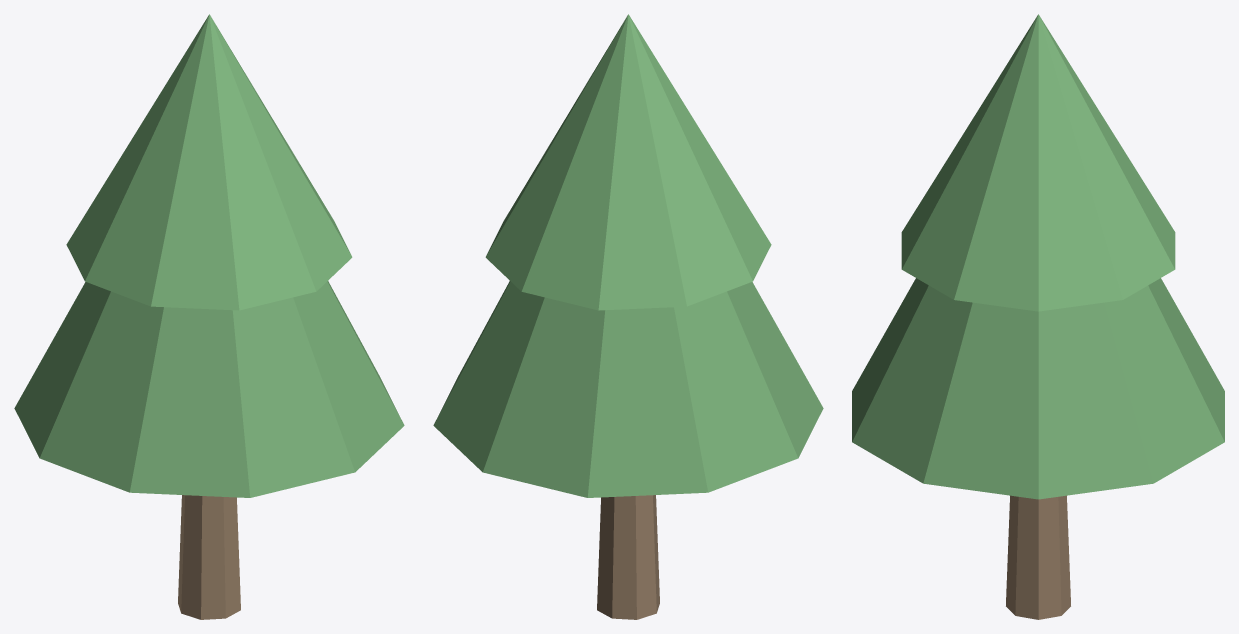
The model's file is tree.glb.
3 views of the same model, side by side, from view 1: azimuth 30°, elevation 25°; view 2: azimuth 150°, elevation 25°; view 3: azimuth 270°, elevation 25° (orthographic).
Parts seen in each view (by area): view 1: prop; view 2: prop; view 3: prop.
Part boxes in pixels (x1,y1,x2,y2): prop: (14, 14, 404, 619); prop: (433, 14, 823, 619); prop: (852, 14, 1224, 619).
Bounding box in the file's own units: 3 × 5 × 2.85.
